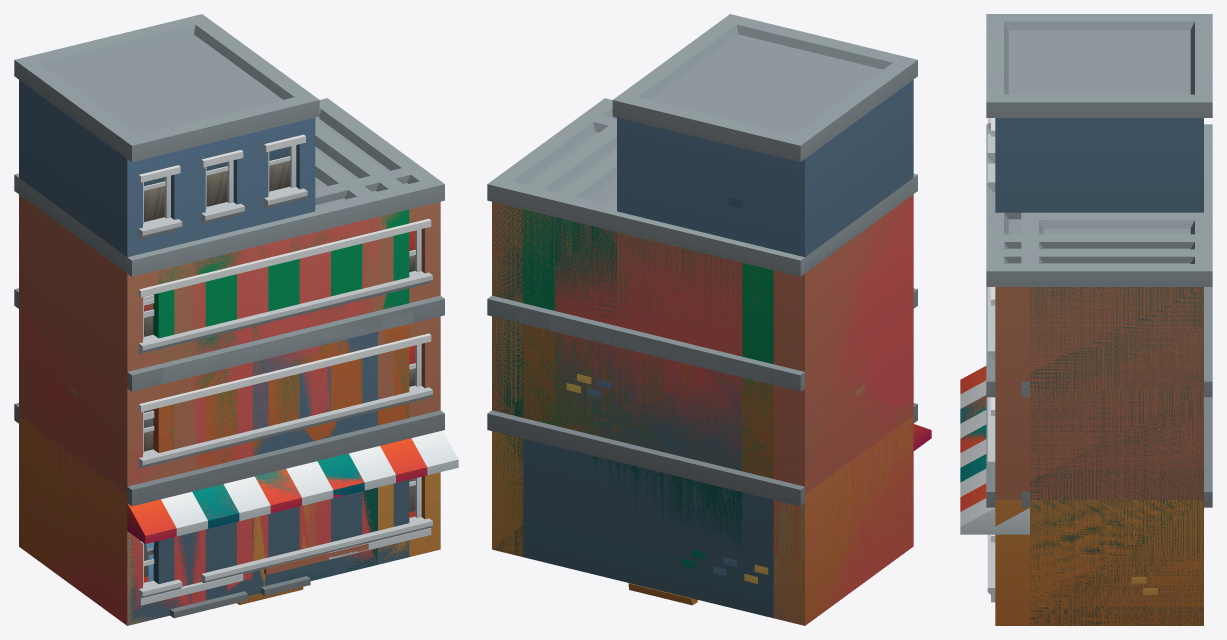
File: city.glb
3 renders of one model, left to right at view 1: azimuth 30°, elevation 25°; view 2: azimuth 150°, elevation 25°; view 3: azimuth 270°, elevation 25°, orthographic. The views are drawn at different scales.
Visible parts, largest first — view 1: building_E_withoutBase, building_H_withoutBase, building_F_withoutBase, building_B_withoutBase, building_C_withoutBase, building_D_withoutBase, building_A_withoutBase, building_G_withoutBase; view 2: building_E_withoutBase, building_H_withoutBase, building_F_withoutBase, building_B_withoutBase, building_C_withoutBase, building_D_withoutBase, building_A_withoutBase, building_G_withoutBase; view 3: building_E_withoutBase, building_H_withoutBase, building_G_withoutBase, building_F_withoutBase, building_C_withoutBase, building_D_withoutBase, building_A_withoutBase, building_B_withoutBase.
Boxes of the visible parts, <box> form: building_E_withoutBase: <box>15,98,458,625</box>; building_H_withoutBase: <box>14,14,319,625</box>; building_F_withoutBase: <box>14,102,444,625</box>; building_B_withoutBase: <box>153,311,413,618</box>; building_C_withoutBase: <box>190,150,382,610</box>; building_D_withoutBase: <box>153,120,413,575</box>; building_A_withoutBase: <box>192,320,395,605</box>; building_G_withoutBase: <box>127,101,410,625</box>; building_E_withoutBase: <box>487,98,931,625</box>; building_H_withoutBase: <box>487,14,917,505</box>; building_F_withoutBase: <box>487,98,917,624</box>; building_B_withoutBase: <box>518,308,773,618</box>; building_C_withoutBase: <box>550,150,742,503</box>; building_D_withoutBase: <box>518,125,773,478</box>; building_A_withoutBase: <box>550,314,742,568</box>; building_G_withoutBase: <box>487,111,916,624</box>; building_E_withoutBase: <box>960,124,1212,625</box>; building_H_withoutBase: <box>986,14,1212,534</box>; building_G_withoutBase: <box>960,125,1212,625</box>; building_F_withoutBase: <box>986,124,1212,597</box>; building_C_withoutBase: <box>986,153,1212,554</box>; building_D_withoutBase: <box>986,220,1212,366</box>; building_A_withoutBase: <box>960,395,995,496</box>; building_B_withoutBase: <box>987,403,1212,573</box>.
Size of the model in its own units: 2.01 by 3.11 by 1.45.
Materials: 1 (1 with a texture image).
